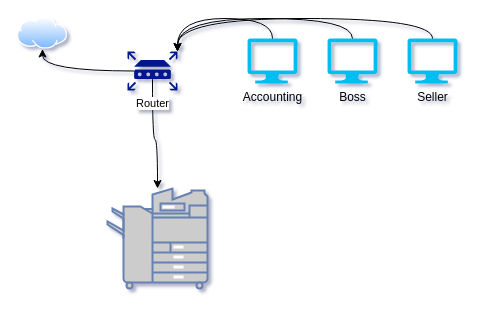
This 480x332 diagram has some shape labels left out. The box of each missing label's shape, as (x1, y1, x2, y2) in pixels:
Copier: (106, 187, 208, 289)
Internet: (17, 17, 67, 48)
